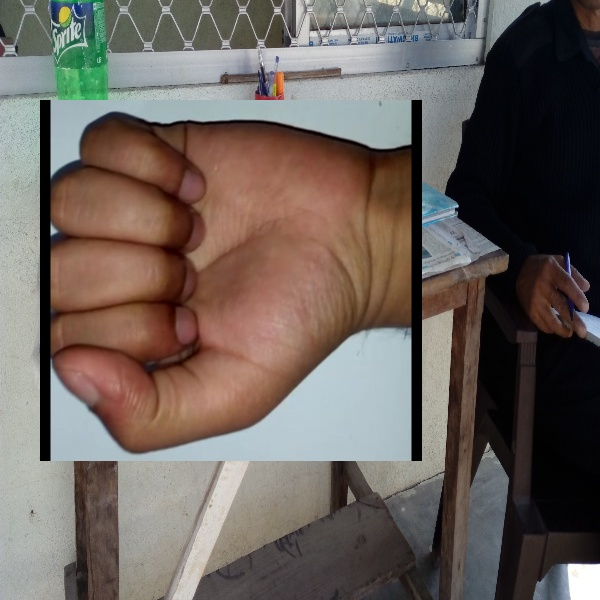A: (40, 100, 422, 461)
